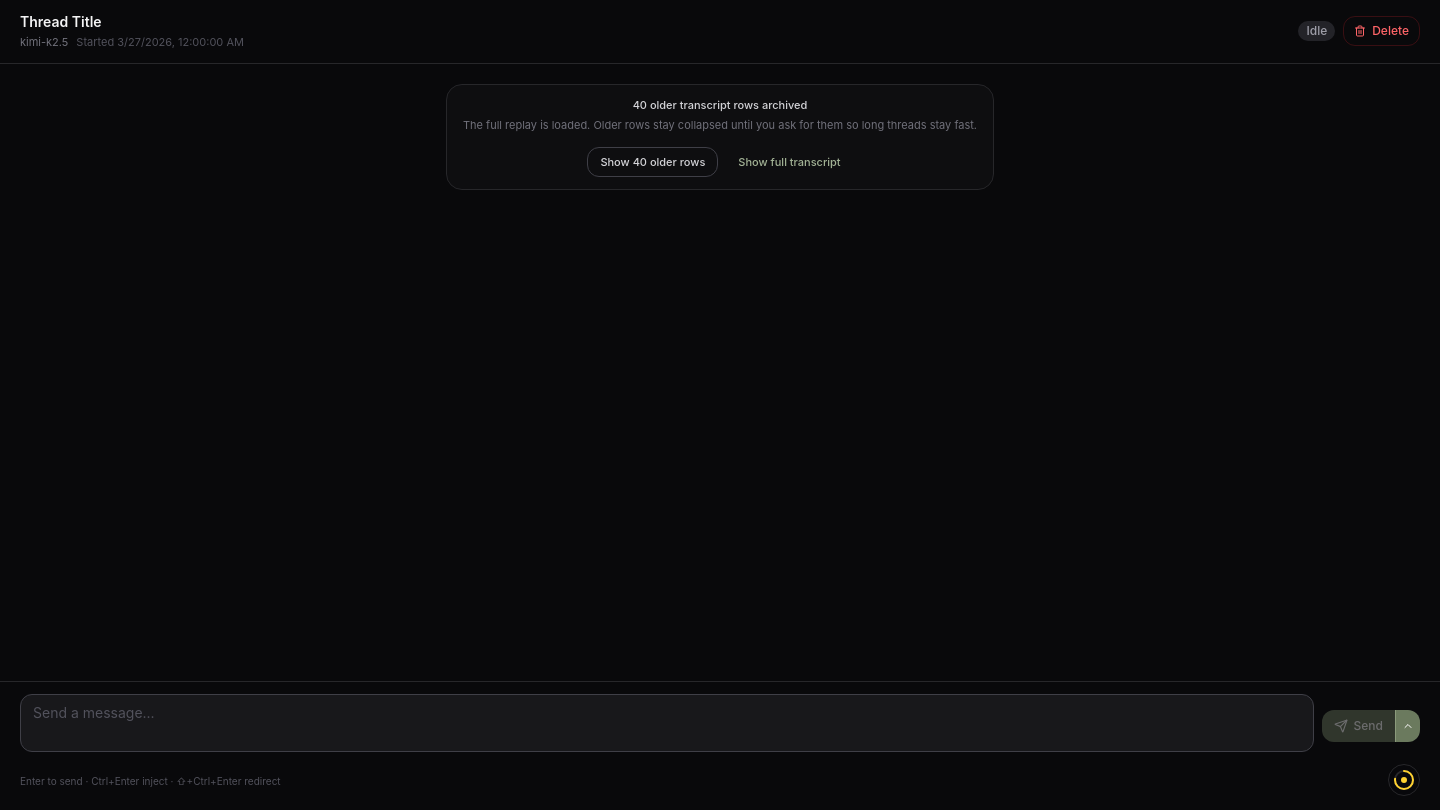
it: ThreadsTab › archives older transcript rows behind an explicit reveal control
Check: the text "40 older transcript rows archived" is shown, box top-left (633, 98), bottom-right (807, 112)
Click the button "Show 40 older rows".
click(653, 162)  # box top-left (587, 147), bottom-right (718, 177)
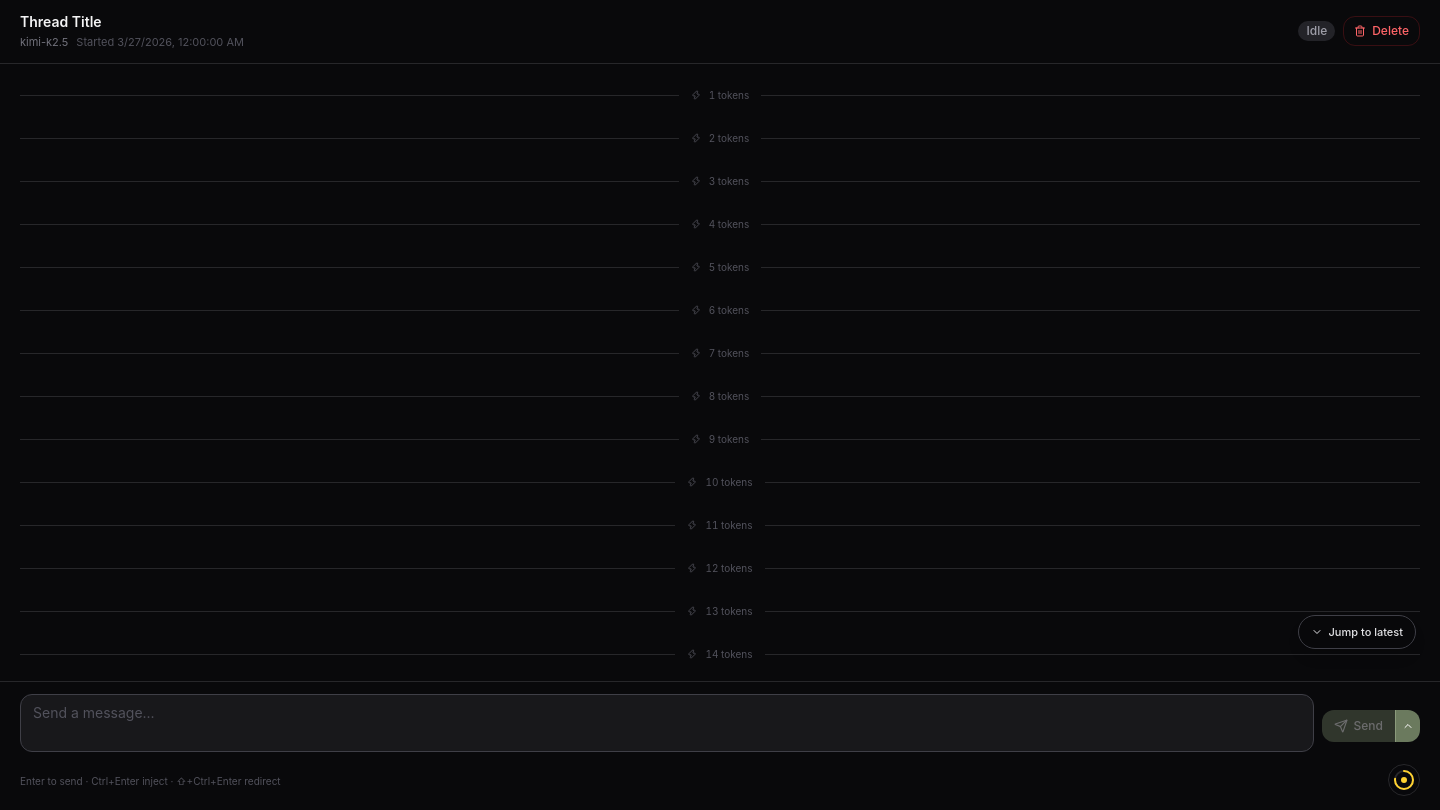
Check: the text "older transcript rows archived" is gone
